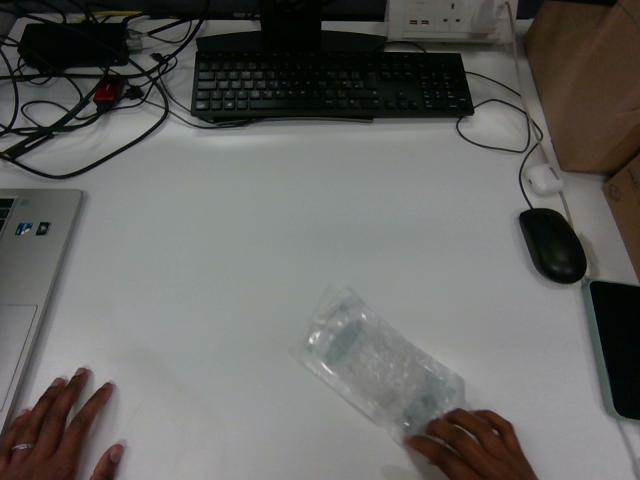gallipot: (293, 288, 463, 442)
